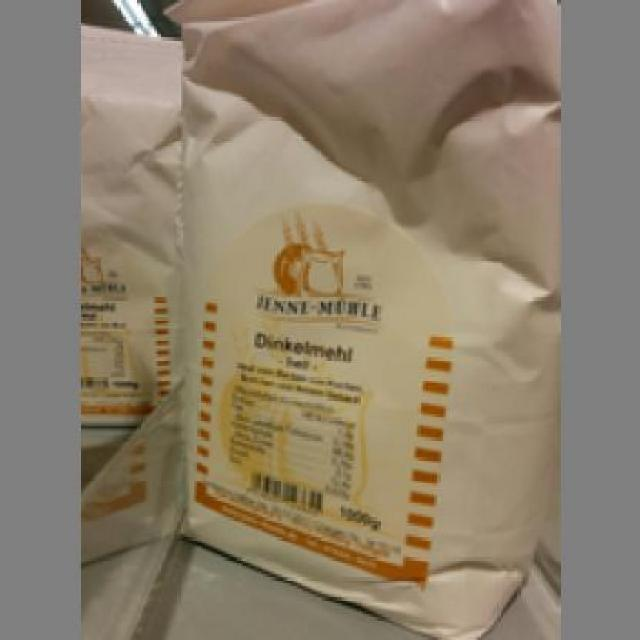Flour: (162, 2, 558, 638)
